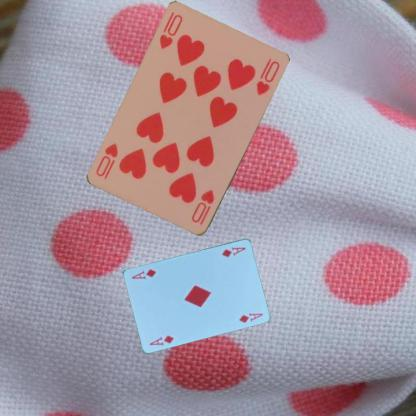10h: (188, 187, 216, 227), (157, 12, 184, 51)
Ad: (147, 332, 175, 347), (219, 244, 247, 258)
